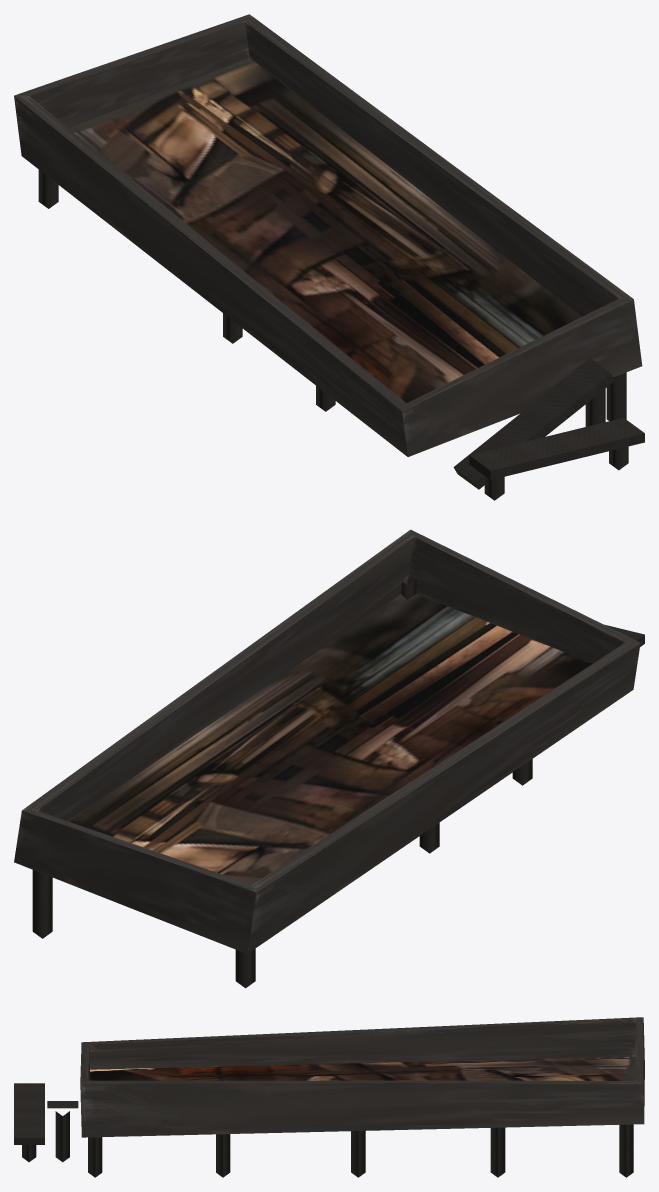
File: prisonbuildingburn.gltf
The picture shows the model from 3 angles, top to bottom: view 1: azimuth 30°, elevation 25°; view 2: azimuth 150°, elevation 25°; view 3: azimuth 270°, elevation 25°; orthographic projection. The views are drawn at different scales.
Visible parts, largest first — view 1: prisonbuildingburn_atomic0; view 2: prisonbuildingburn_atomic0; view 3: prisonbuildingburn_atomic0.
Boxes of the visible parts, x1=… form: prisonbuildingburn_atomic0: x1=14, y1=14, x2=644, y2=500; prisonbuildingburn_atomic0: x1=14, y1=529, x2=644, y2=988; prisonbuildingburn_atomic0: x1=14, y1=1017, x2=644, y2=1177.
Size of the model in its own units: 14.77 by 7.69 by 45.75.
Materials: 3 (3 with a texture image).
